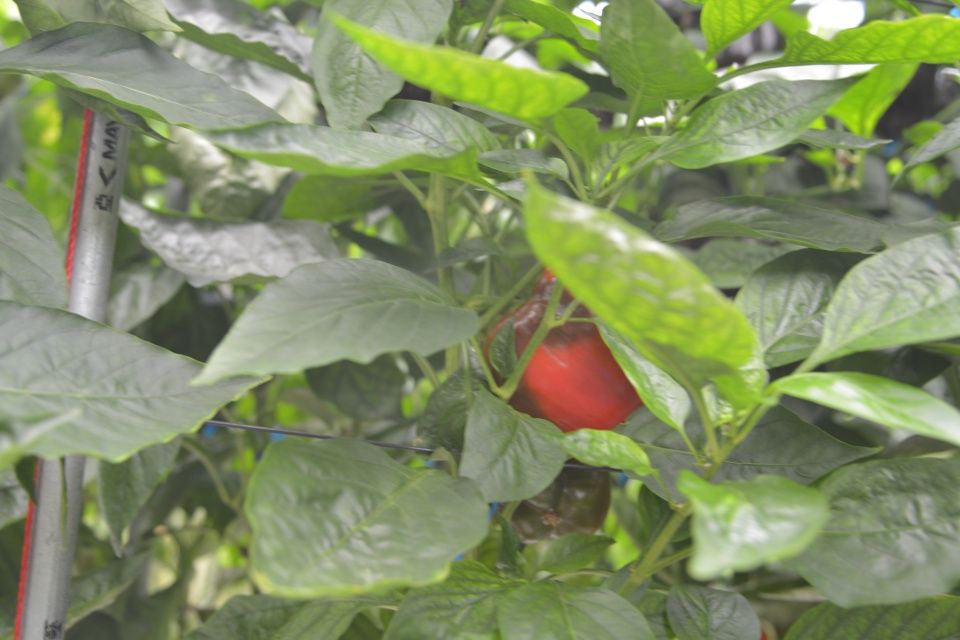fruit: (483, 268, 644, 432), (494, 457, 611, 544), (872, 62, 960, 138)
